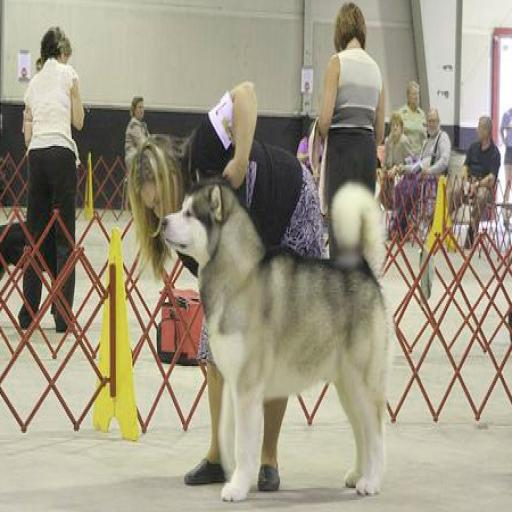dog_face: (160, 181, 239, 274)
